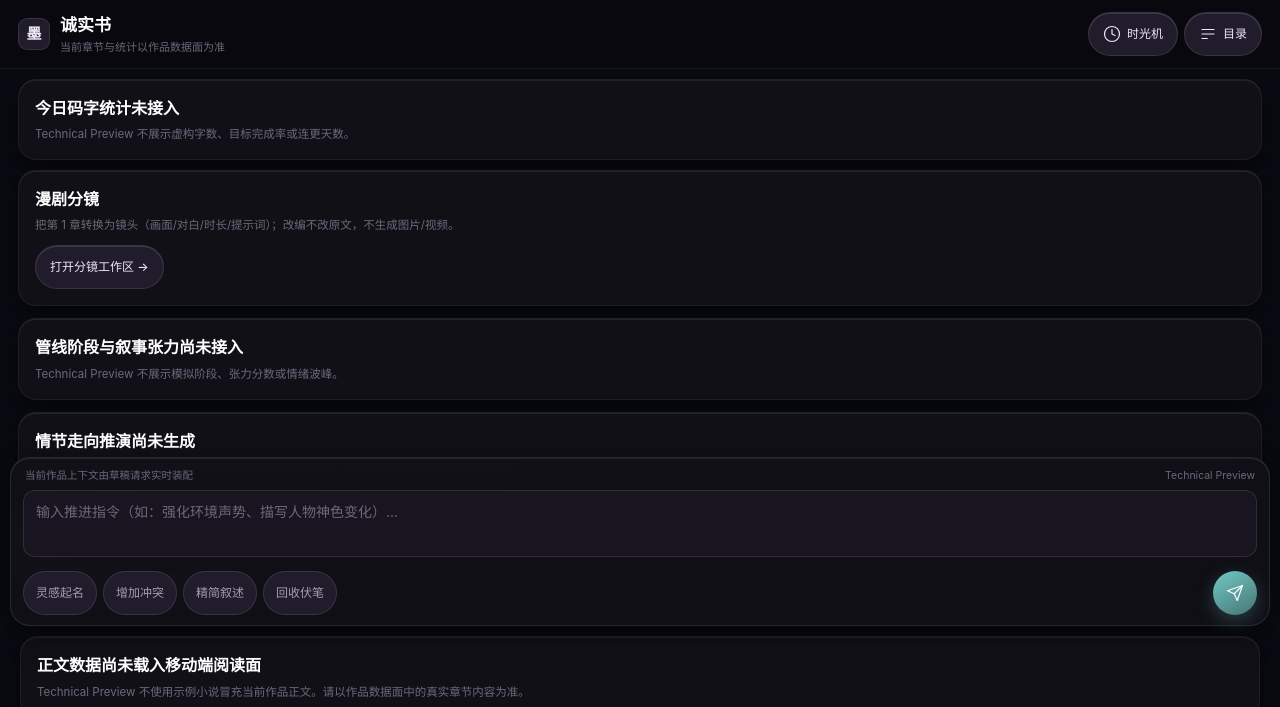
WorkbenchHub · 草稿流终帧诚实性 › 完整成功：说是候选并说明需采纳，不得说已持久化
Type "推进" into the text box with placeholder "输入推进指令（如：强化环境声势、描写人物神色变化）..." at {"x": 640, "y": 524}, box [23,490,1257,557]
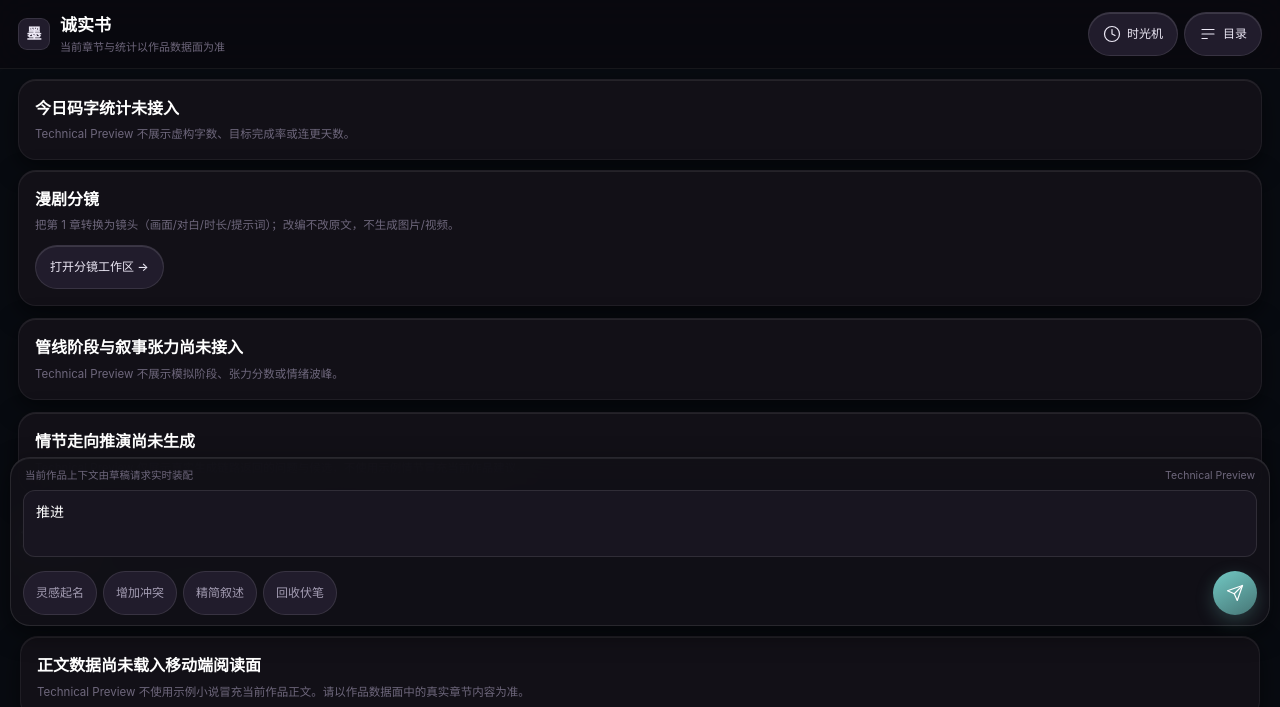
Click the button named "生成草稿" at {"x": 1235, "y": 593}, box [1213,571,1257,615]
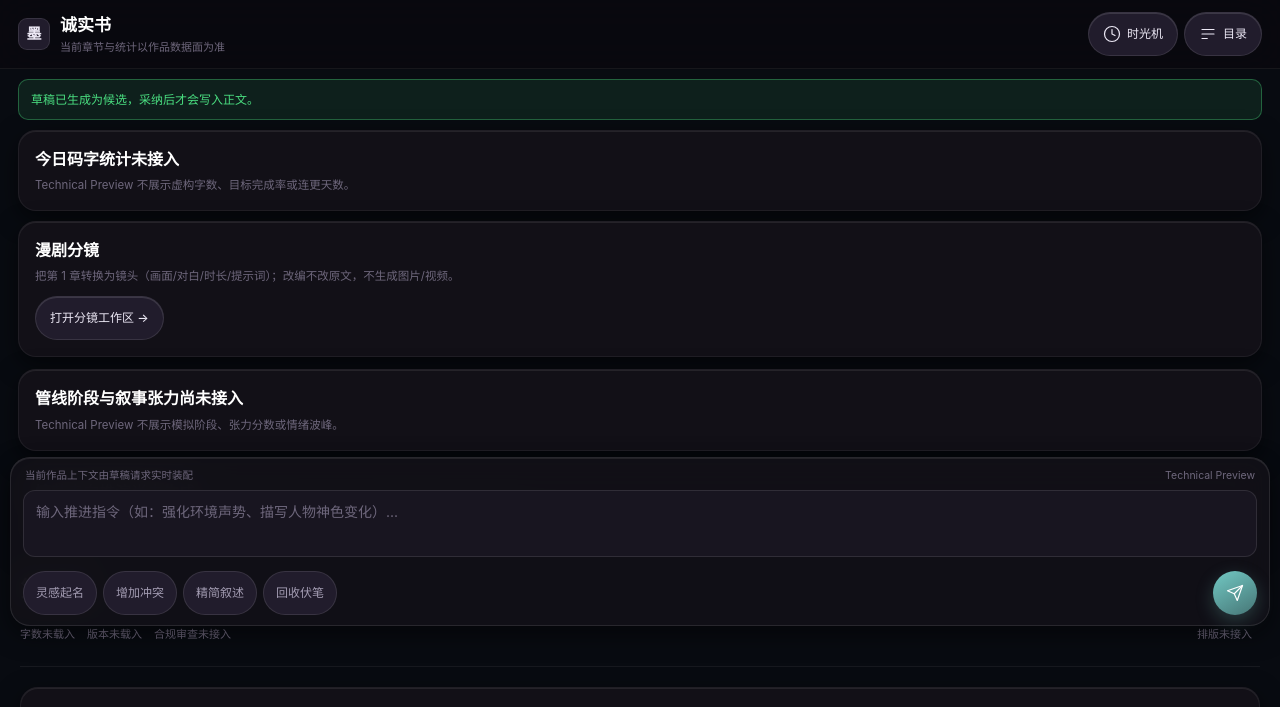
Check: the message with test id "workbench-notice" shows "候选", box [18,79,1262,120]
Check: the message with test id "workbench-notice" shows "采纳", box [18,79,1262,120]
